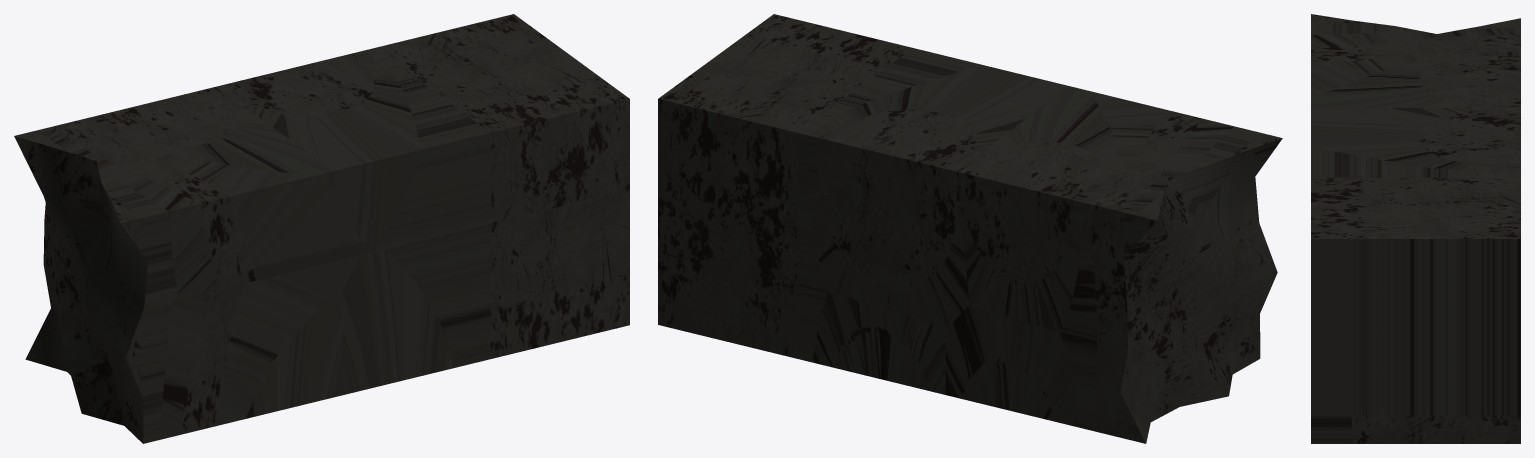
The model's file is Pillar07.FBX.
The picture shows the model from 3 angles, left to right: view 1: azimuth 30°, elevation 25°; view 2: azimuth 150°, elevation 25°; view 3: azimuth 270°, elevation 25°; orthographic projection. The views are drawn at different scales.
Visible parts, largest first — view 1: Box022; view 2: Box022; view 3: Box022.
Boxes of the visible parts, <box> form: Box022: <box>14,14,629,443</box>; Box022: <box>658,14,1282,443</box>; Box022: <box>1311,14,1520,443</box>.
Size of the model in its own units: 32977 by 14000 by 13000.
